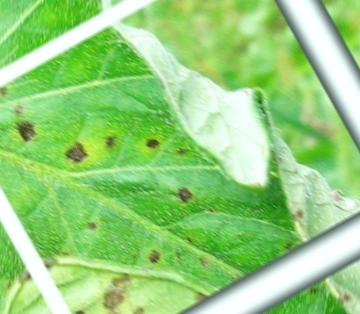Tomato Septoria leaf spot: (0, 0, 325, 314)
